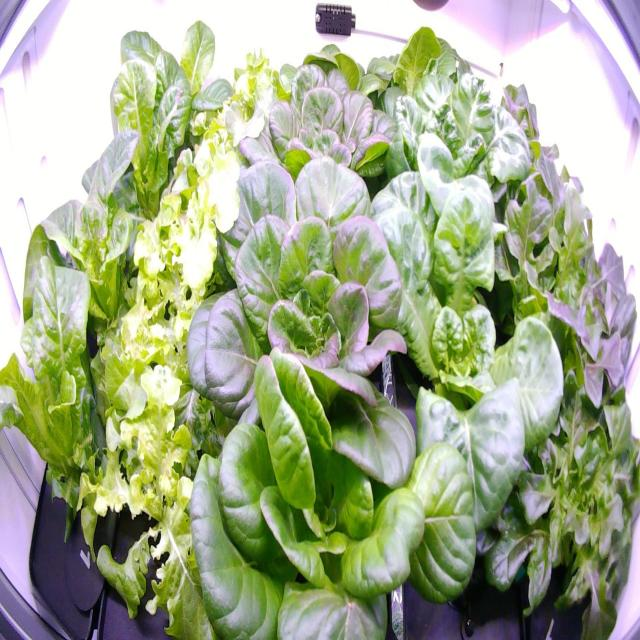Ready: (173, 150, 448, 500), (170, 354, 480, 639), (354, 170, 572, 520), (365, 15, 540, 240), (1, 255, 132, 542), (7, 124, 153, 369), (213, 59, 408, 224), (77, 16, 187, 230), (117, 10, 250, 178)
